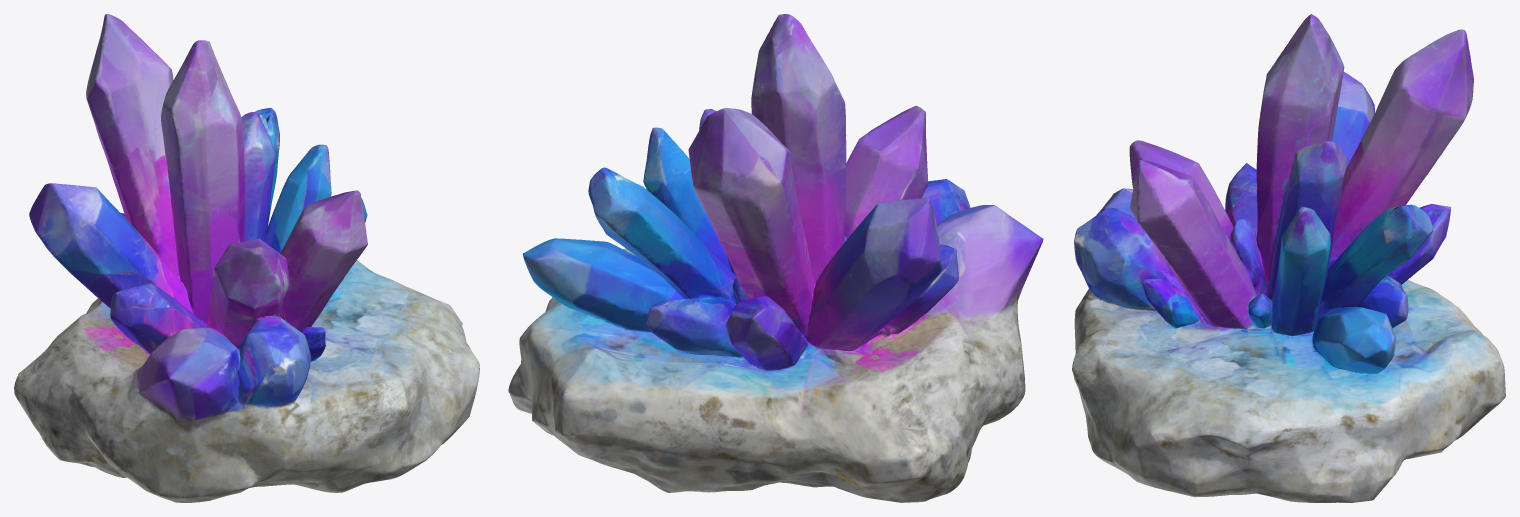
The model's file is Meshy_AI_artistic_abstract_cry_1016200512_texture.fbx.
The picture shows the model from 3 angles, left to right: view 1: azimuth 30°, elevation 25°; view 2: azimuth 150°, elevation 25°; view 3: azimuth 270°, elevation 25°; orthographic projection. The views are drawn at different scales.
Visible parts, largest first — view 1: Mesh_0; view 2: Mesh_0; view 3: Mesh_0.
Part boxes in pixels (bbox=[...]): Mesh_0: bbox=[14, 14, 479, 502]; Mesh_0: bbox=[508, 14, 1043, 502]; Mesh_0: bbox=[1072, 14, 1505, 502].
Size of the model in its own units: 192 by 199 by 186.
Materials: 1 (1 with a texture image).
